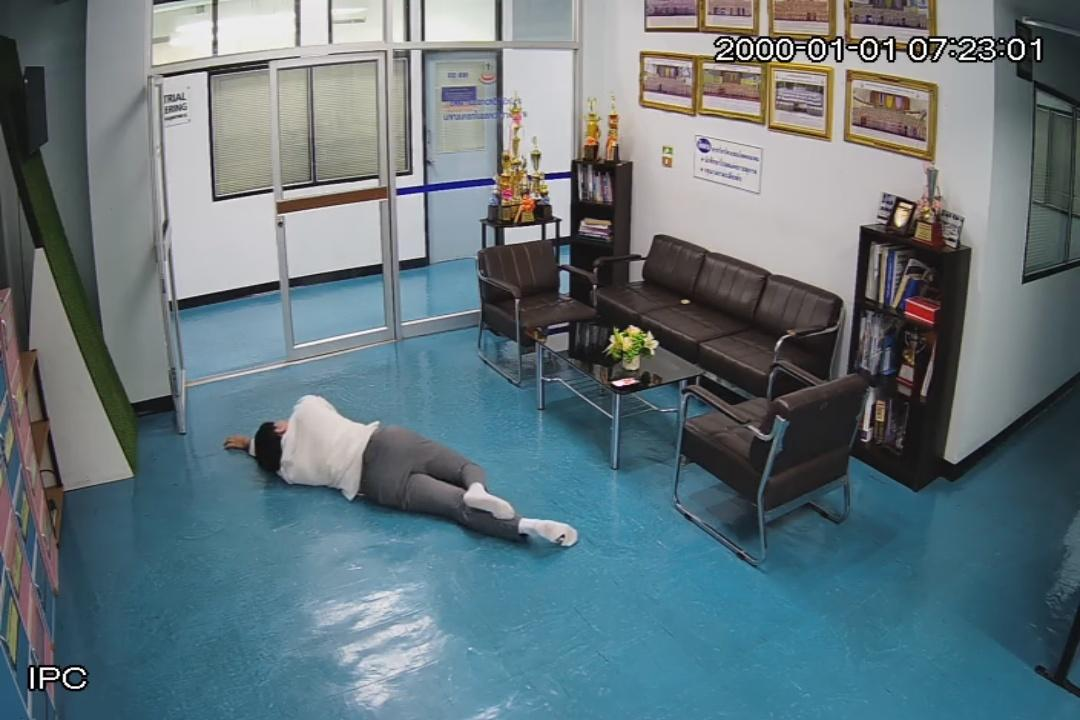fall: (226, 390, 586, 560)
